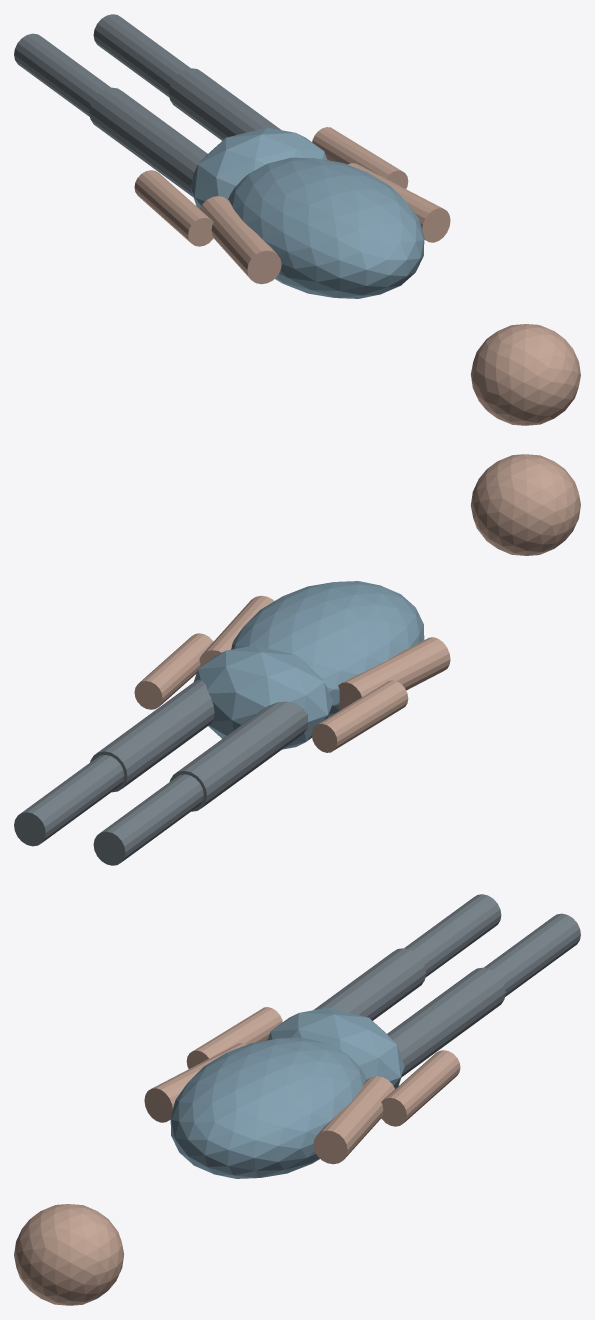
The model's file is adult-medium.glb.
3 renders of one model, top to bottom at view 1: azimuth 30°, elevation 25°; view 2: azimuth 150°, elevation 25°; view 3: azimuth 330°, elevation 25°, orthographic.
Visible parts, largest first — view 1: torso, head, left_thigh, pelvis, right_thigh, right_lower_leg, left_lower_leg, left_upper_arm, left_forearm, right_forearm, right_upper_arm; view 2: torso, head, pelvis, left_thigh, right_thigh, left_lower_leg, right_lower_leg, left_upper_arm, left_forearm, right_forearm, right_upper_arm; view 3: torso, head, right_thigh, pelvis, left_thigh, left_lower_leg, right_lower_leg, right_upper_arm, right_forearm, left_forearm, left_upper_arm.
Boxes of the visible parts, bbox=[...] form: torso: bbox=[228, 157, 424, 298]; head: bbox=[470, 324, 580, 425]; left_thigh: bbox=[89, 87, 207, 197]; pelvis: bbox=[190, 127, 327, 208]; right_thigh: bbox=[169, 68, 281, 140]; right_lower_leg: bbox=[93, 14, 190, 97]; left_lower_leg: bbox=[14, 33, 110, 116]; left_upper_arm: bbox=[200, 196, 281, 284]; left_forearm: bbox=[134, 170, 213, 246]; right_forearm: bbox=[312, 127, 408, 188]; right_upper_arm: bbox=[348, 163, 450, 242]; torso: bbox=[231, 581, 424, 717]; head: bbox=[470, 454, 580, 555]; pelvis: bbox=[194, 645, 333, 749]; left_thigh: bbox=[169, 701, 307, 811]; right_thigh: bbox=[90, 679, 214, 792]; left_lower_leg: bbox=[93, 774, 203, 865]; right_lower_leg: bbox=[14, 755, 124, 846]; left_upper_arm: bbox=[338, 637, 450, 709]; left_forearm: bbox=[311, 680, 408, 752]; right_forearm: bbox=[134, 633, 213, 709]; right_upper_arm: bbox=[199, 595, 274, 667]; torso: bbox=[170, 1037, 366, 1178]; head: bbox=[14, 1204, 124, 1305]; right_thigh: bbox=[387, 967, 505, 1077]; pelvis: bbox=[267, 1007, 404, 1088]; left_thigh: bbox=[313, 948, 425, 1020]; left_lower_leg: bbox=[404, 894, 501, 977]; right_lower_leg: bbox=[484, 913, 580, 996]; right_upper_arm: bbox=[313, 1076, 394, 1164]; right_forearm: bbox=[381, 1050, 460, 1126]; left_forearm: bbox=[186, 1007, 282, 1068]; left_upper_arm: bbox=[144, 1043, 246, 1122].
Size of the model in its own units: 1.38 by 0.6 by 5.26.
